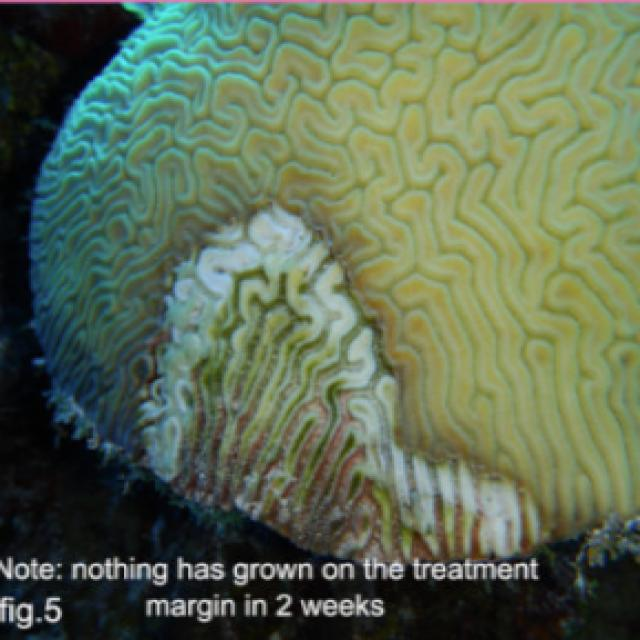Coral: (29, 0, 640, 568)
